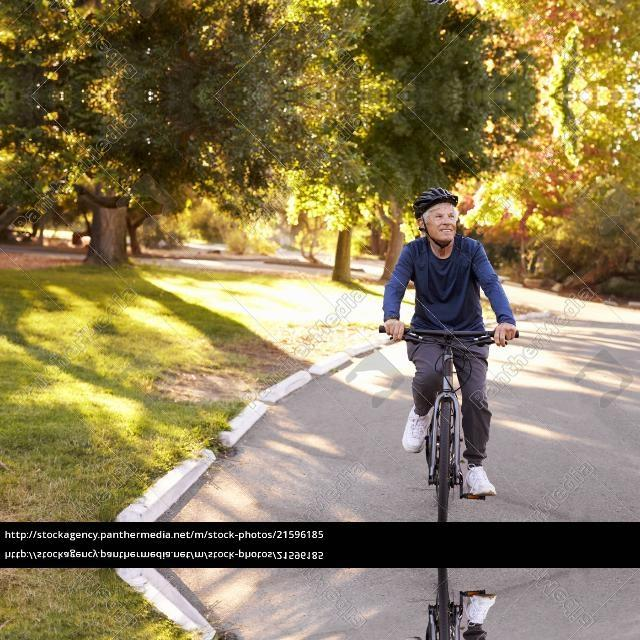obstacle: (378, 322, 512, 524), (378, 565, 511, 640)
